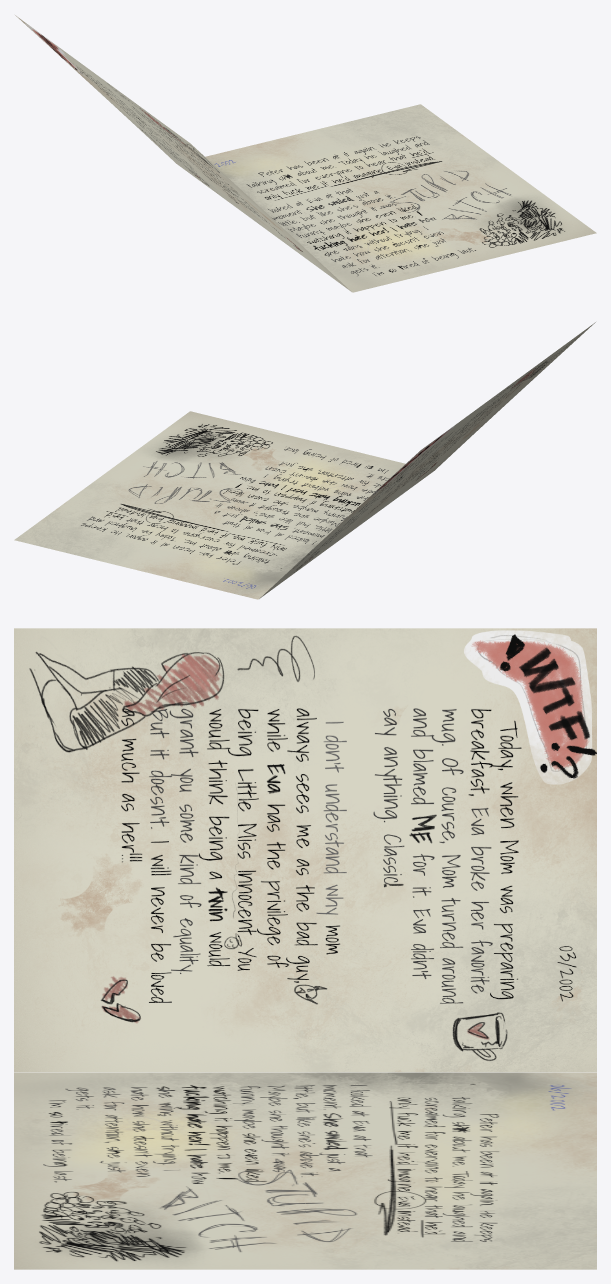
The model's file is Turnable_page_diary1.fbx.
3 views of the same model, one above another, from view 1: azimuth 30°, elevation 25°; view 2: azimuth 150°, elevation 25°; view 3: azimuth 270°, elevation 25° (orthographic). The views are drawn at different scales.
Parts seen in each view (by area): view 1: p2, P1; view 2: p2, P1; view 3: P1, p2.
Boxes of the visible parts, x1=… form: p2: x1=205, y1=104, x2=596, y2=292; P1: x1=15, y1=15, x2=351, y2=291; p2: x1=14, y1=411, x2=405, y2=599; P1: x1=259, y1=322, x2=595, y2=598; P1: x1=14, y1=628, x2=596, y2=1072; p2: x1=14, y1=1072, x2=596, y2=1269.
Size of the model in its own units: 267 by 118 by 200.
2 materials, 2 textured.
